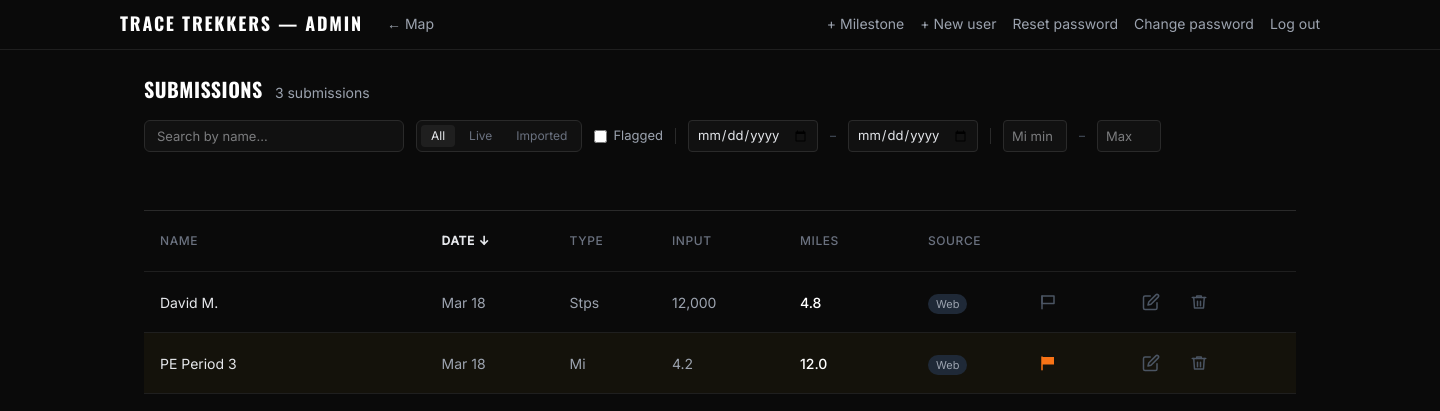
Test: AdminPage › search filtering › shows a filtered count in the summary stats when search is active
The width and height of the screenshot is (1440, 411).
Expected: the text "Ms. Rivera's Class" is shown, x1=160 y1=232 x2=281 y2=250
Type "David" into the field with placeholder "Search by name..." at {"x": 274, "y": 136}, box x1=144 y1=120 x2=404 y2=152
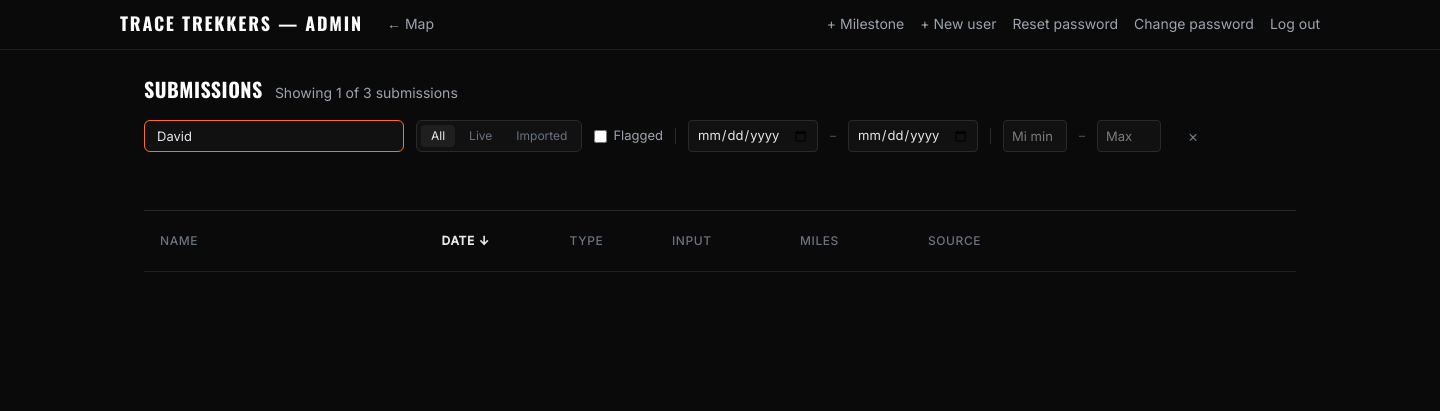
Expected: the text "Showing 1 of 3 submissions" is shown, x1=275 y1=82 x2=458 y2=103
